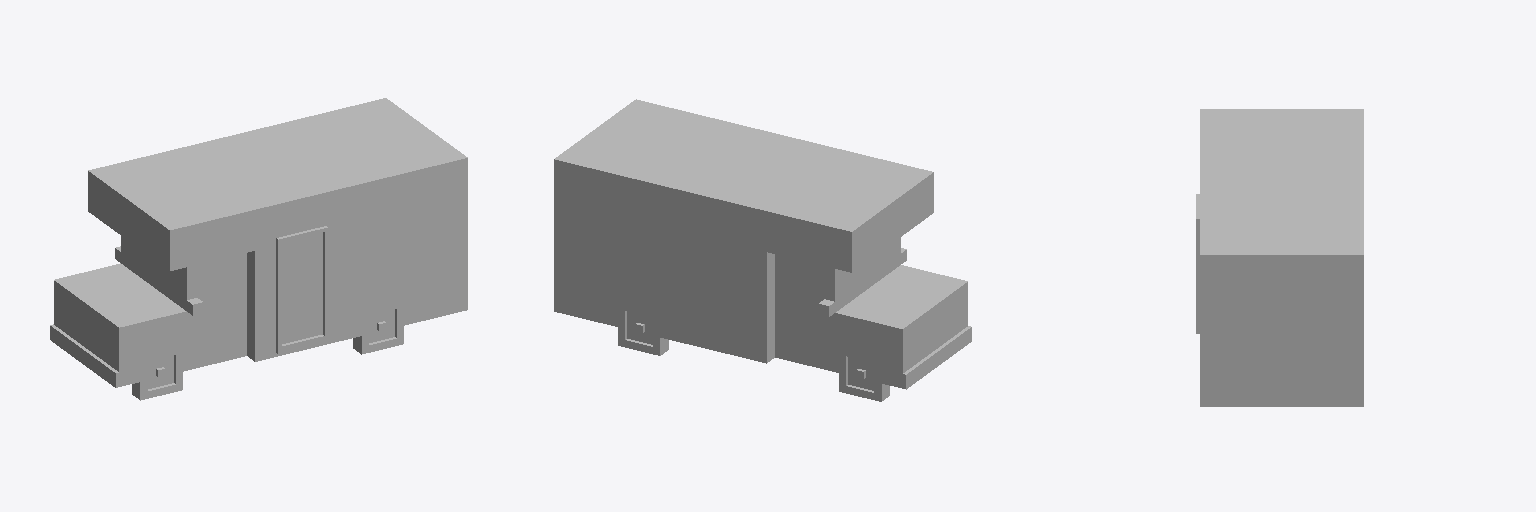
Rendered from alll cars3-29.obj.
3 views of the same model, side by side, from view 1: azimuth 30°, elevation 25°; view 2: azimuth 150°, elevation 25°; view 3: azimuth 270°, elevation 25° (orthographic).
Parts seen in each view (by area): view 1: object 1; view 2: object 1; view 3: object 1.
Part boxes in pixels (bbox=[...]): object 1: bbox=[50, 98, 467, 400]; object 1: bbox=[554, 99, 971, 401]; object 1: bbox=[1196, 109, 1363, 406].
Bounding box in the file's own units: 9.7 × 4.6 × 4.1.